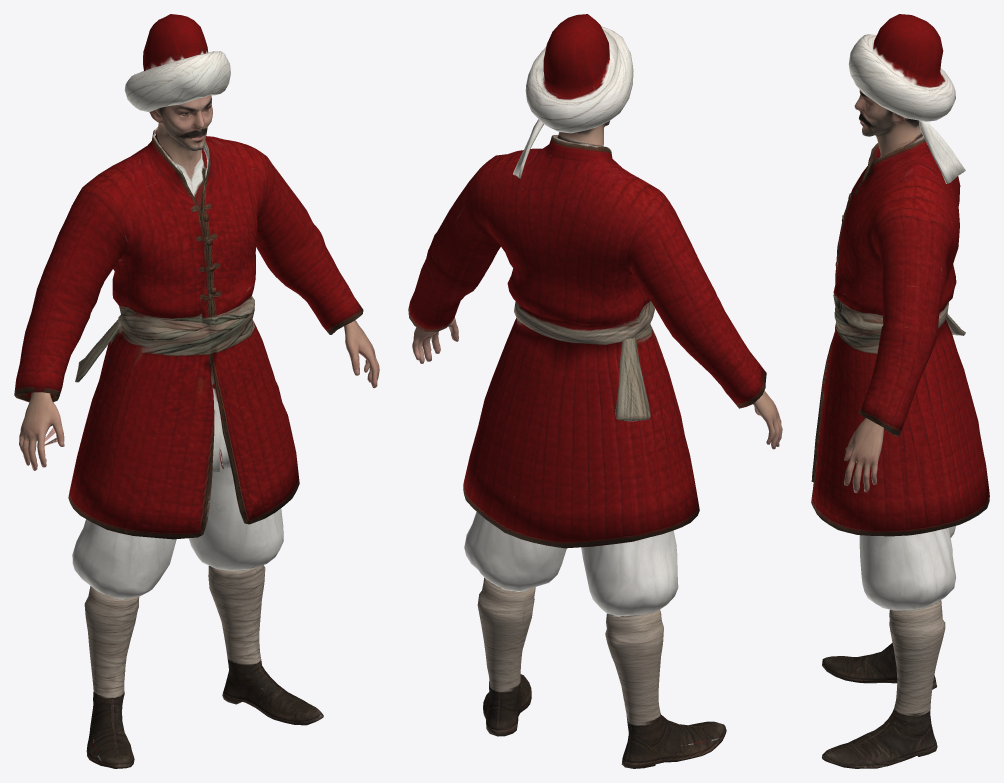
Rendered from Meshy_AI_model.glb.
The picture shows the model from 3 angles, left to right: view 1: azimuth 30°, elevation 25°; view 2: azimuth 150°, elevation 25°; view 3: azimuth 270°, elevation 25°; orthographic projection. The views are drawn at different scales.
Size of the model in its own units: 0.5271 by 1 by 0.2317.
Materials: 1 (1 with a texture image).
